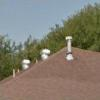Chimney: (60, 28, 82, 66)
